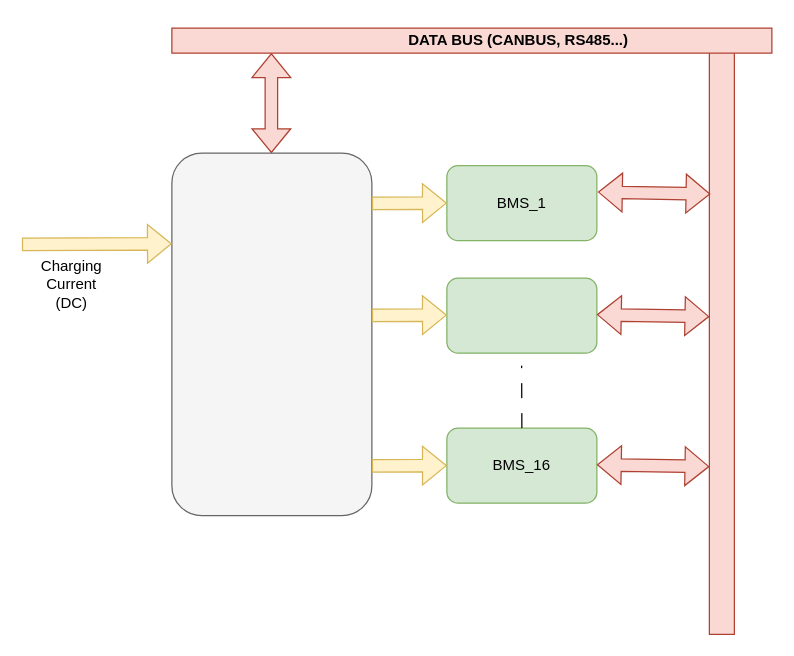
The diagram is 794 pixels wide and 656 high, and some of its shapes have lost their labels. The shapes that lost their labels are listed below. From the top down, each one's centre as x and y in pixels, then its label:
At (x=271, y=334): "SBMS".
At (x=521, y=315): "BMS_2".
